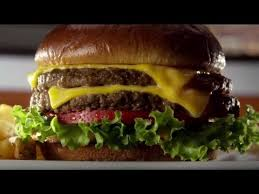hamburger: (31, 26, 239, 161)
